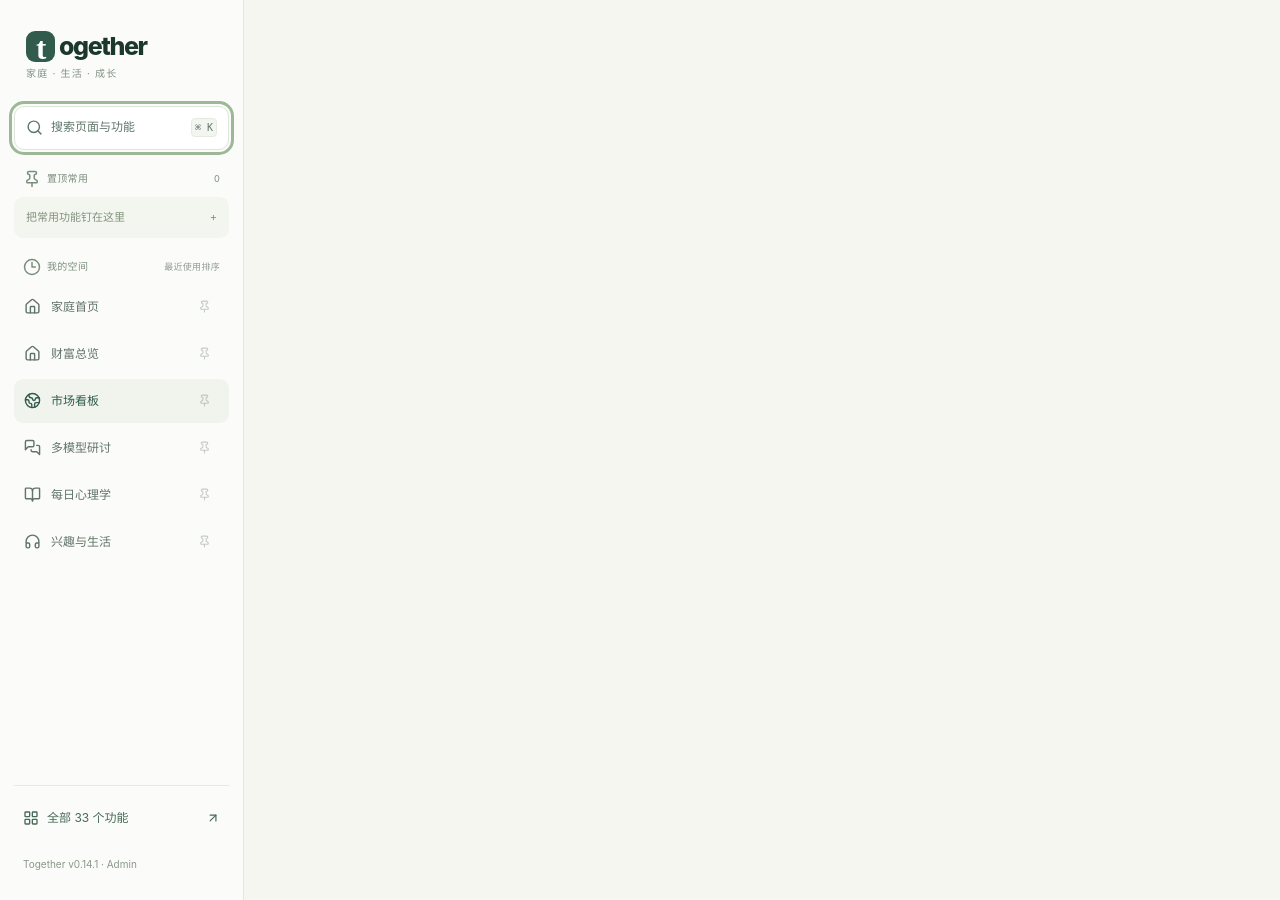
输入法确认文字不打开搜索结果，确认结束后回车才导航，并将焦点还给搜索按钮
The width and height of the screenshot is (1280, 900).
Click the button "搜索页面与功能 ⌘ K" at point(122, 128), box [14, 106, 229, 150]
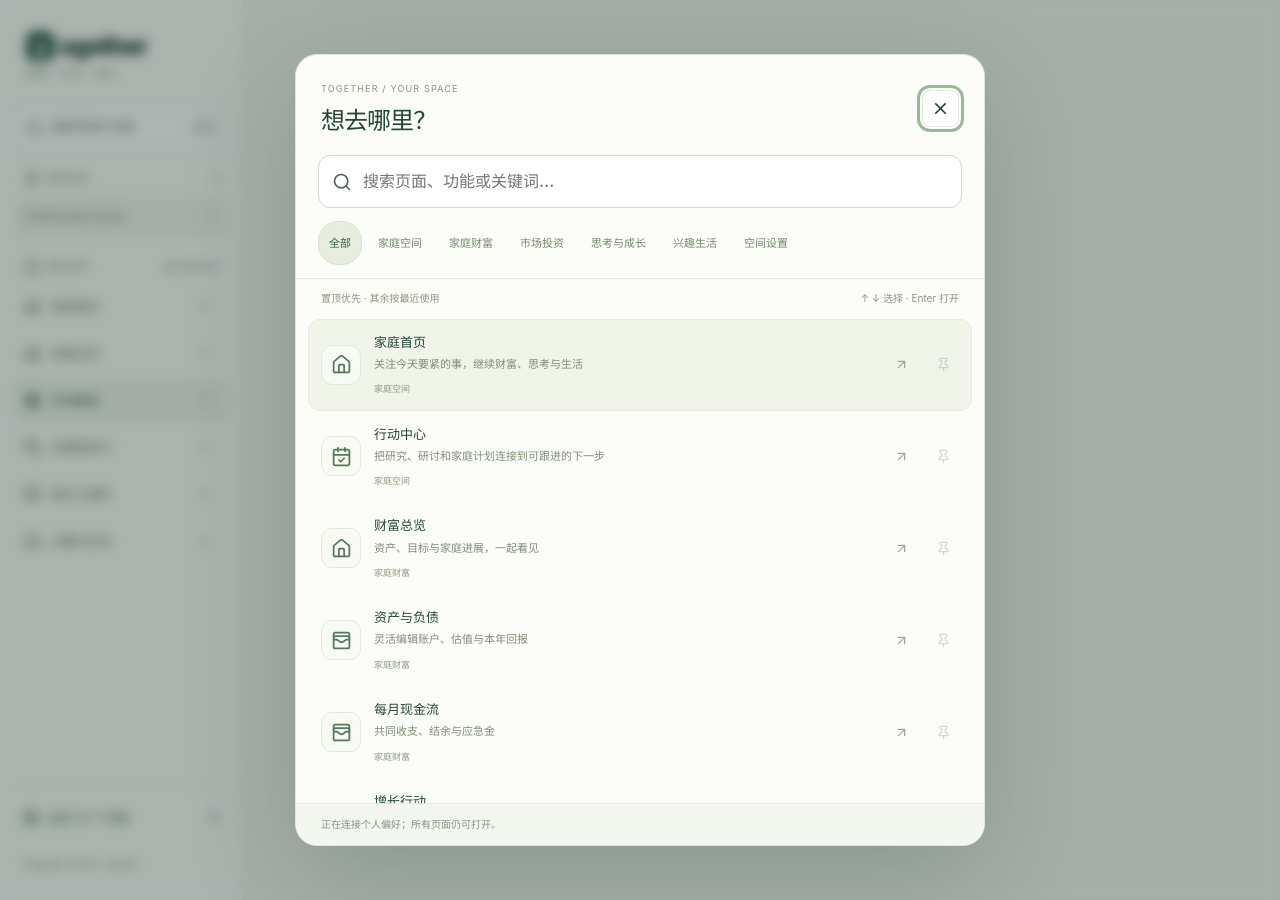
Type "CPI" into the search field named "搜索页面与功能" at point(656, 182), box [363, 156, 948, 207]
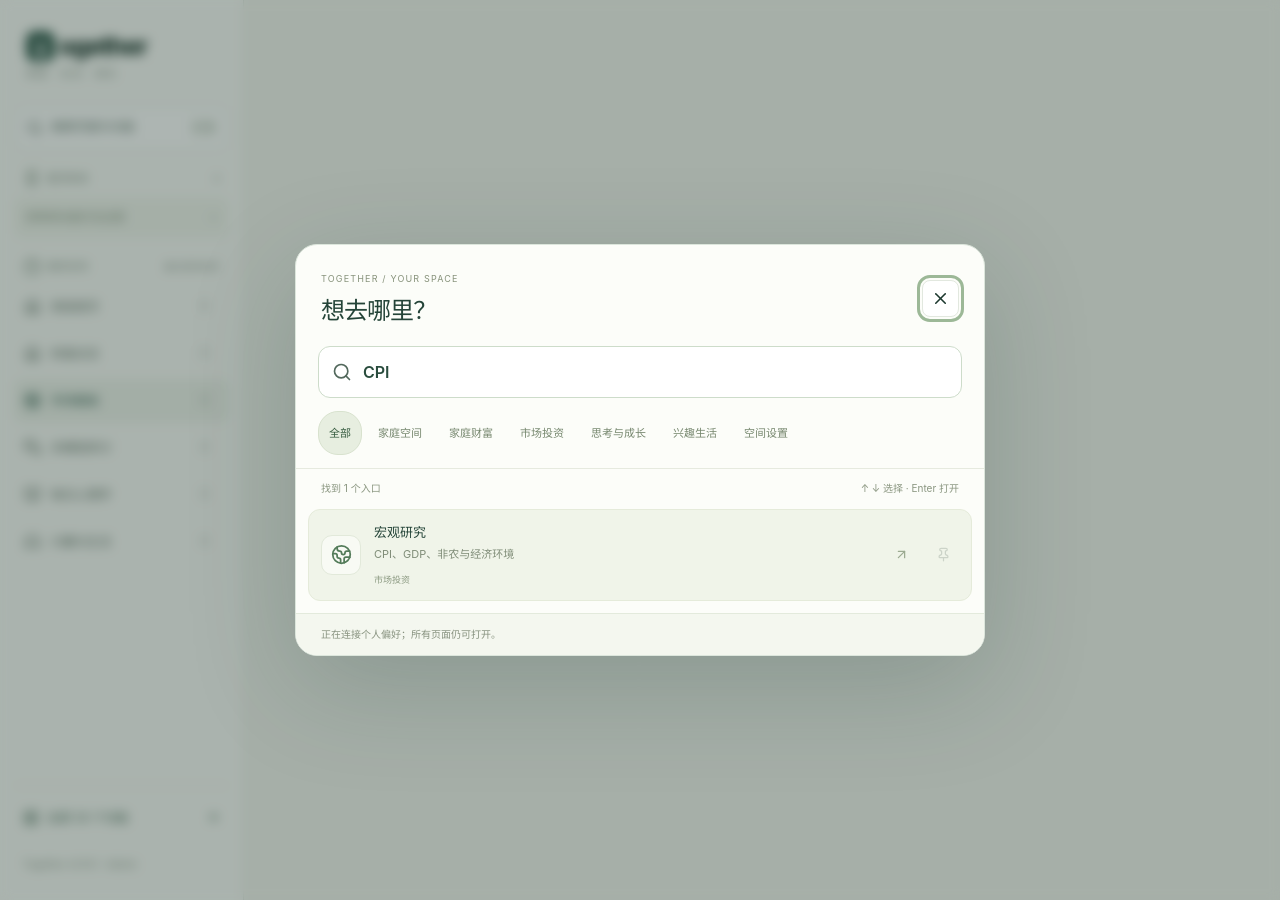
Press Enter in the search field named "搜索页面与功能", box [363, 347, 948, 397]
Press ArrowDown in the search field named "搜索页面与功能", box [363, 347, 948, 397]
Press Enter in the search field named "搜索页面与功能", box [363, 347, 948, 397]
Press Enter in the search field named "搜索页面与功能", box [363, 347, 948, 397]
expect the dialog "想去哪里？" is shown: met, box [295, 244, 985, 656]
Press Enter in the search field named "搜索页面与功能", box [363, 347, 948, 397]
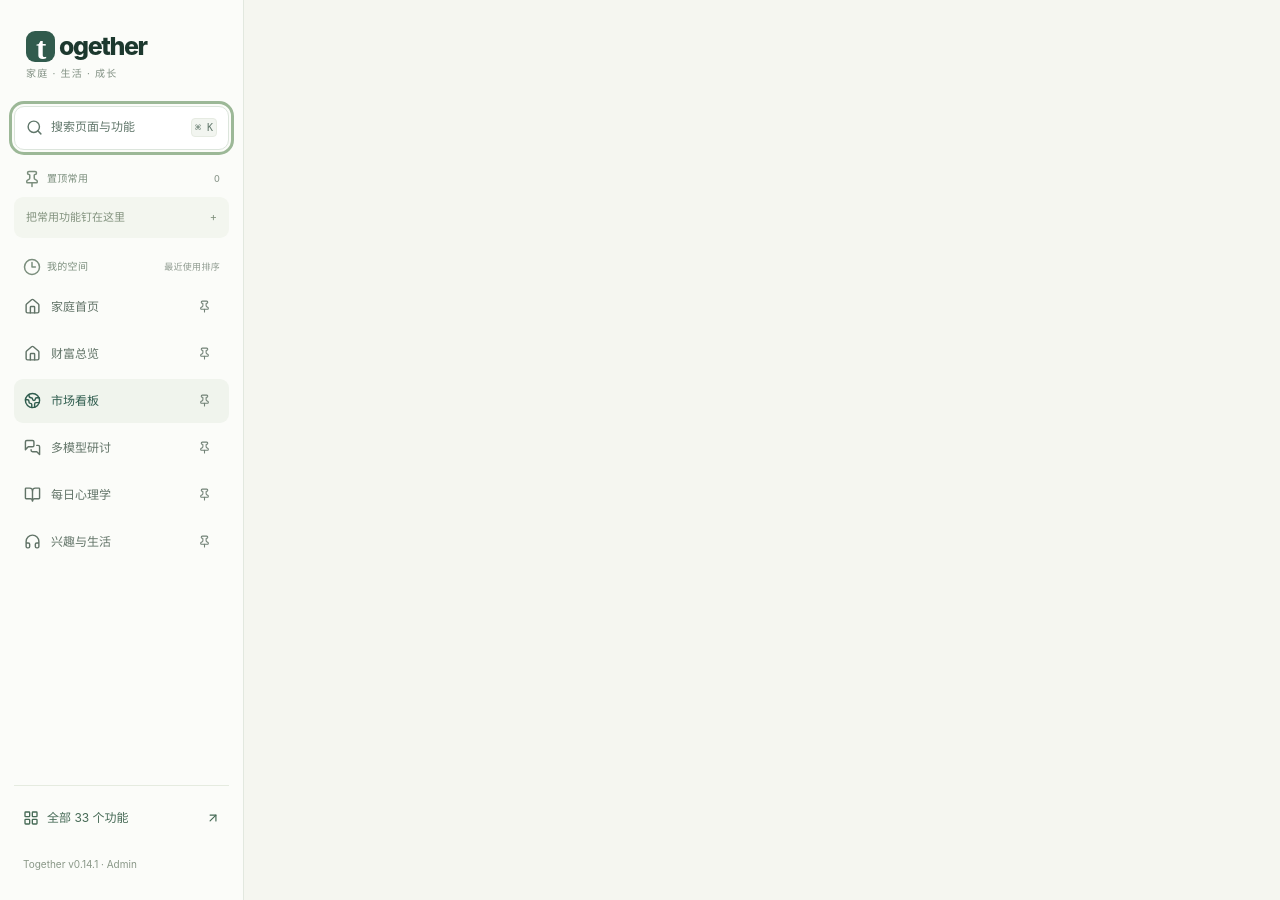
expect the heading "想去哪里？" is gone: met
